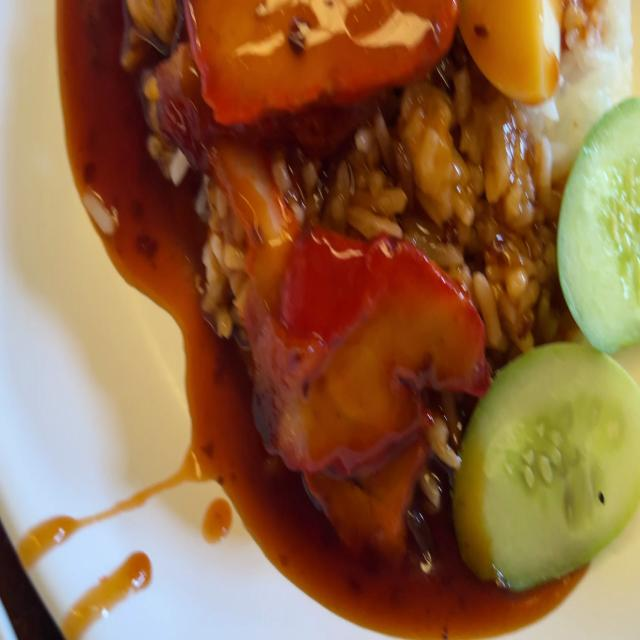red_pork_and_crispy_pork: (463, 0, 563, 109)
